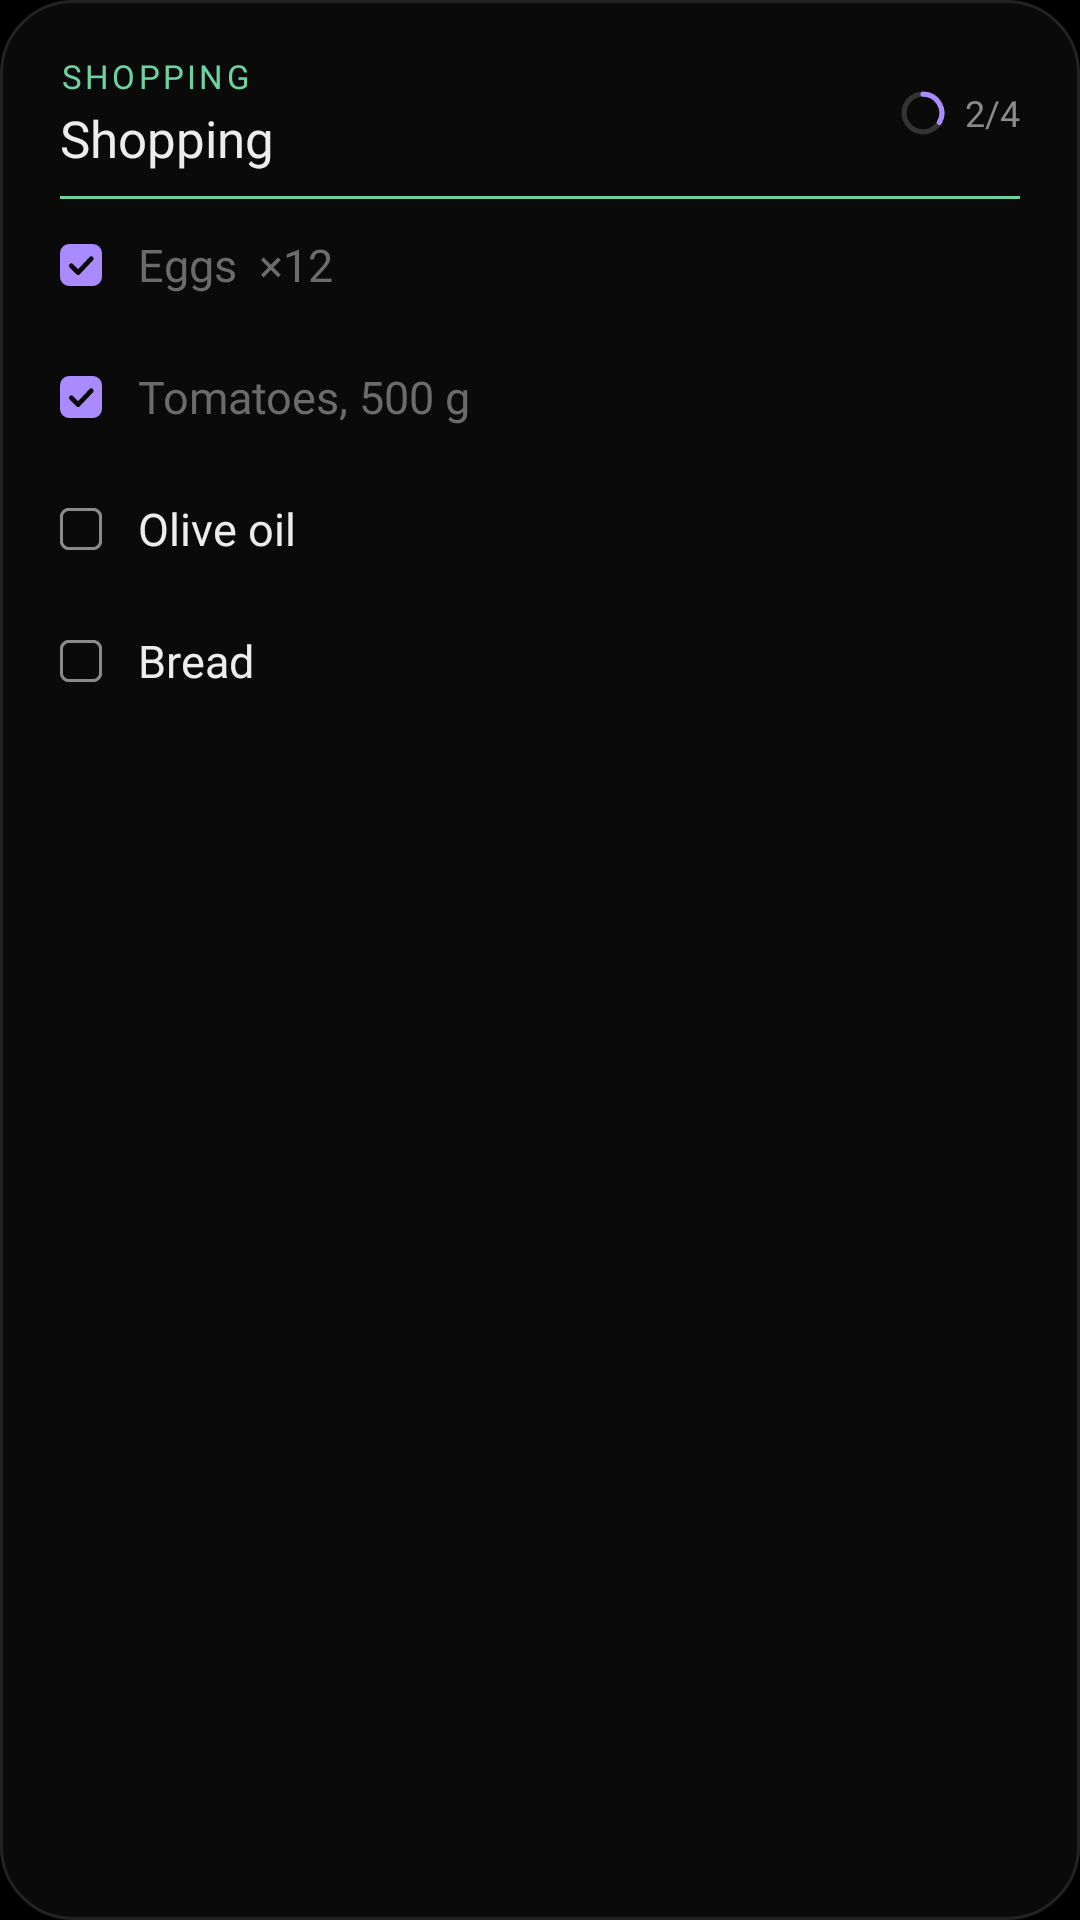

Where icons sit on this 1080px×1920px app screen, as region(x1, y1, x2, y2):
check off: region(60, 508, 102, 550), region(60, 640, 102, 682)
check on: region(60, 244, 102, 286), region(60, 376, 102, 418)
Progress: region(902, 91, 945, 134)
